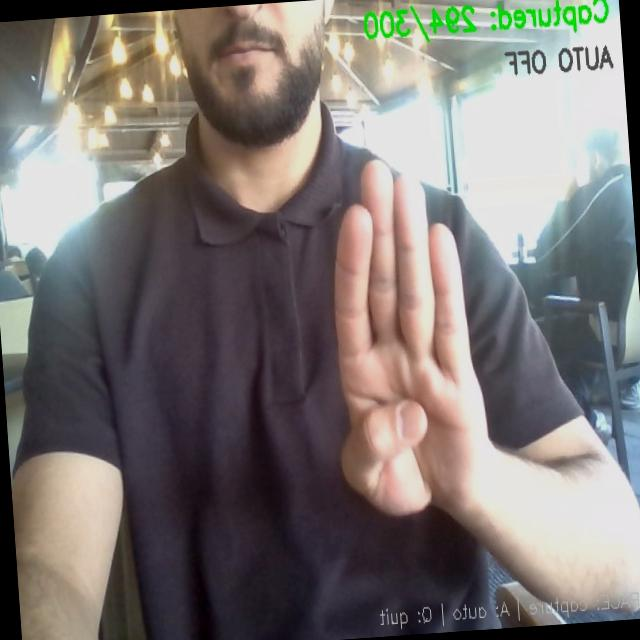Hand: (335, 160, 493, 514)
